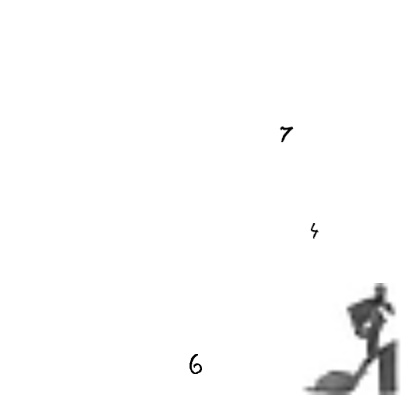4: (303, 219, 325, 241)
6: (180, 351, 208, 379)
7: (275, 121, 297, 143)
Sandal: (295, 283, 407, 395)
